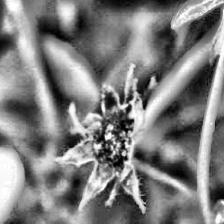Gray Mold: (55, 65, 156, 215)
